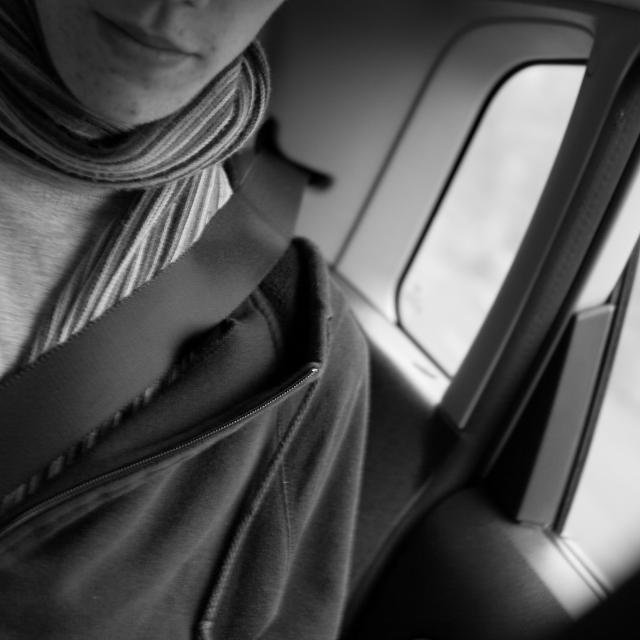Seatbelt: (1, 149, 310, 497)
